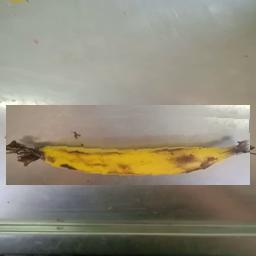Banana Semifresh: (7, 105, 251, 185)
